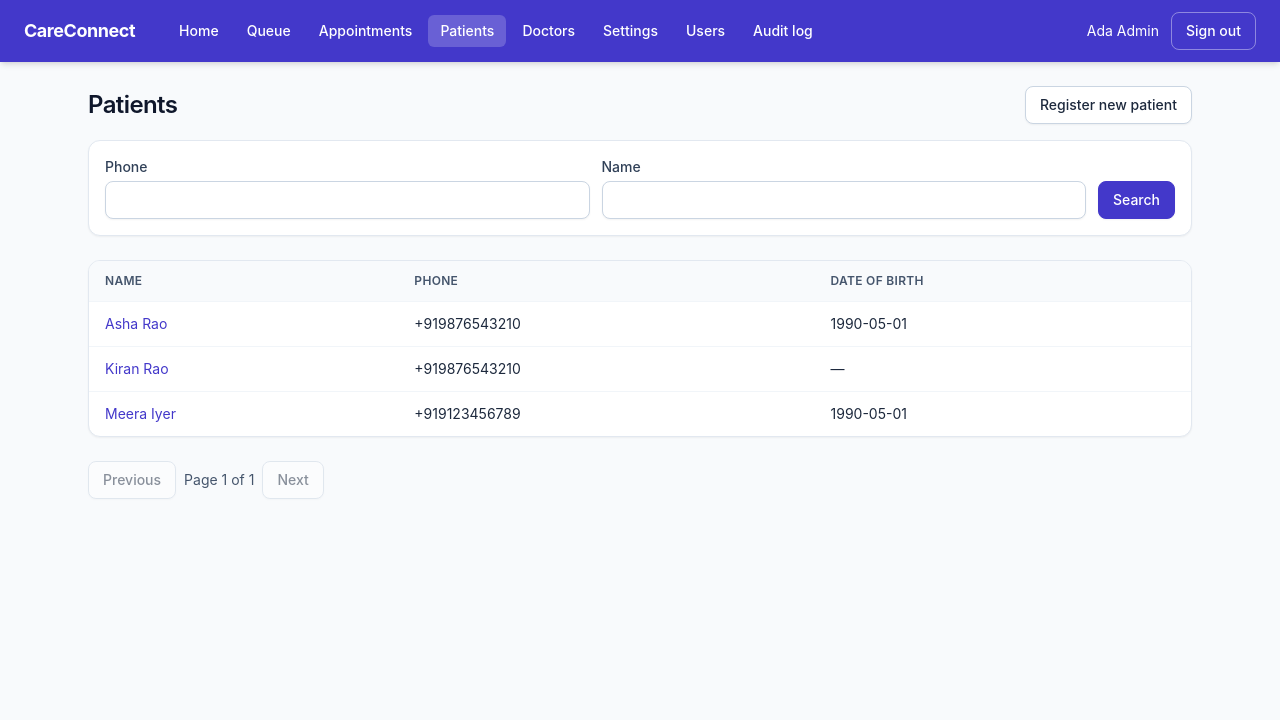
Test: Patients page › lists patients and searching by phone shows every family member under that number
The image size is (1280, 720).
Expected: the link "Meera Iyer" is shown, [105,405,176,422]
Type "98765 43210" into the field labelled "Phone" at (347, 200), box [105,181,590,219]
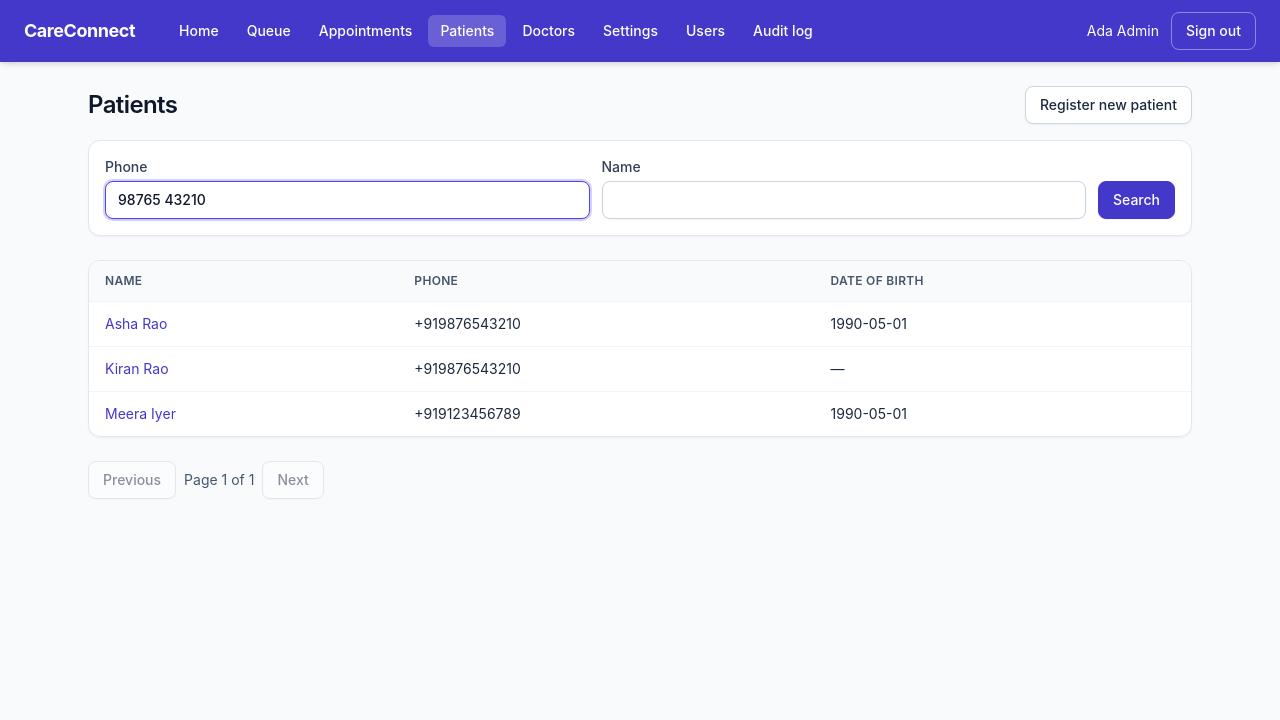
Click the button "Search" at (1136, 200), box [1098,181,1175,219]
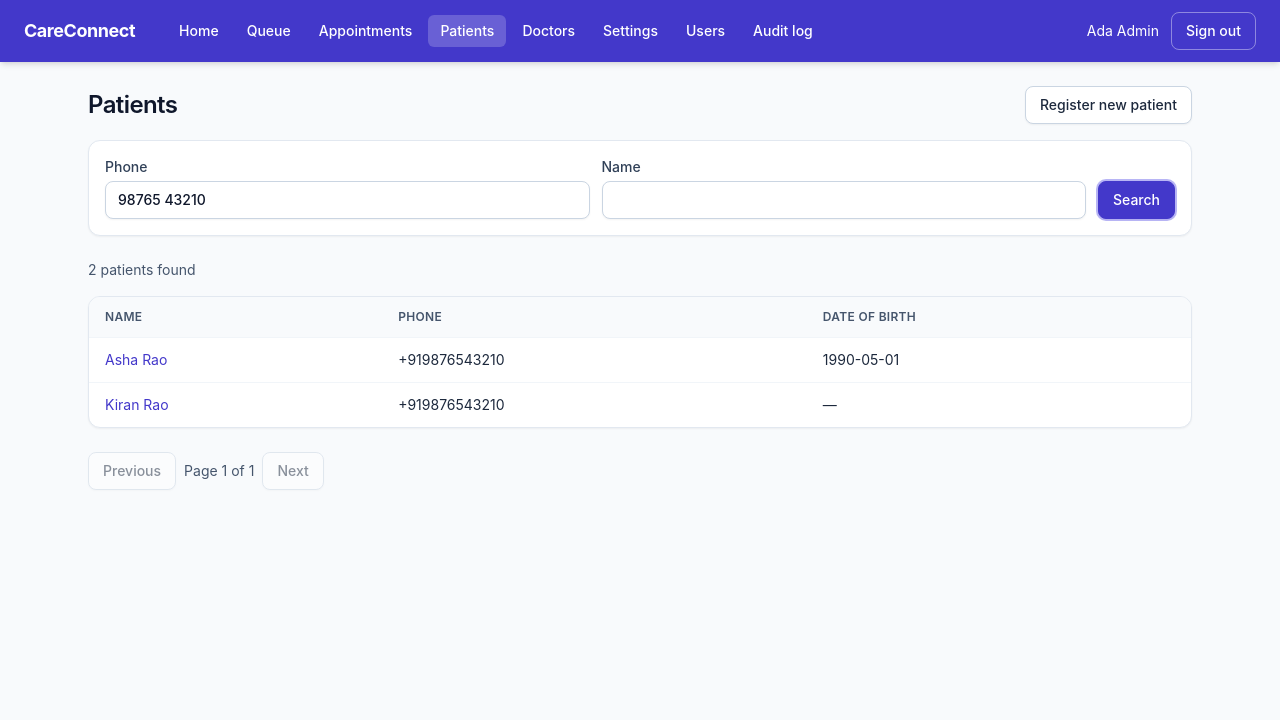
Expected: the link "Asha Rao" is shown, [105,351,167,368]
Expected: the text "2 patients found" is shown, [88,261,196,278]
Expected: the link "Meera Iyer" is gone
